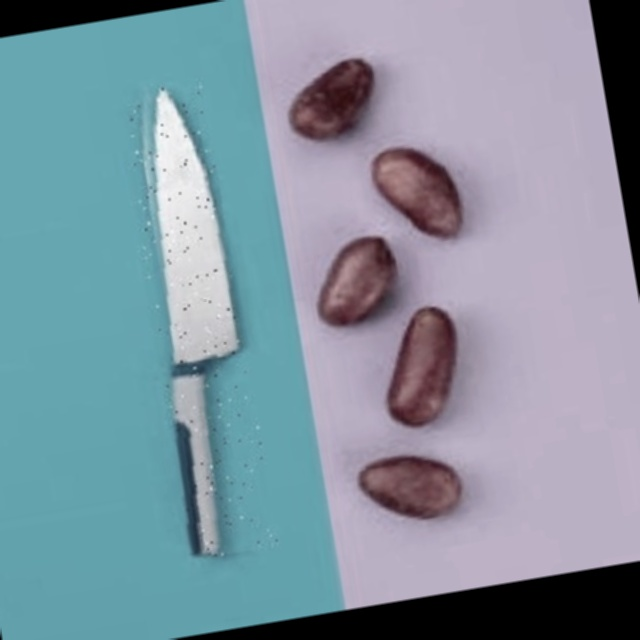Sharp-Object: (118, 82, 278, 560)
